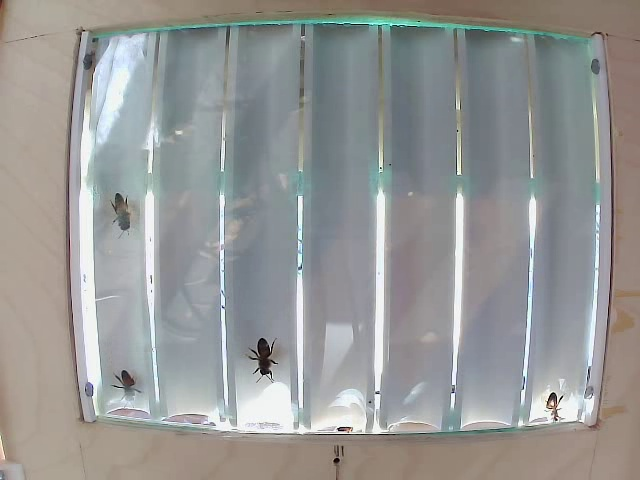bee: (100, 189, 143, 238), (242, 335, 281, 382), (122, 369, 154, 399)
